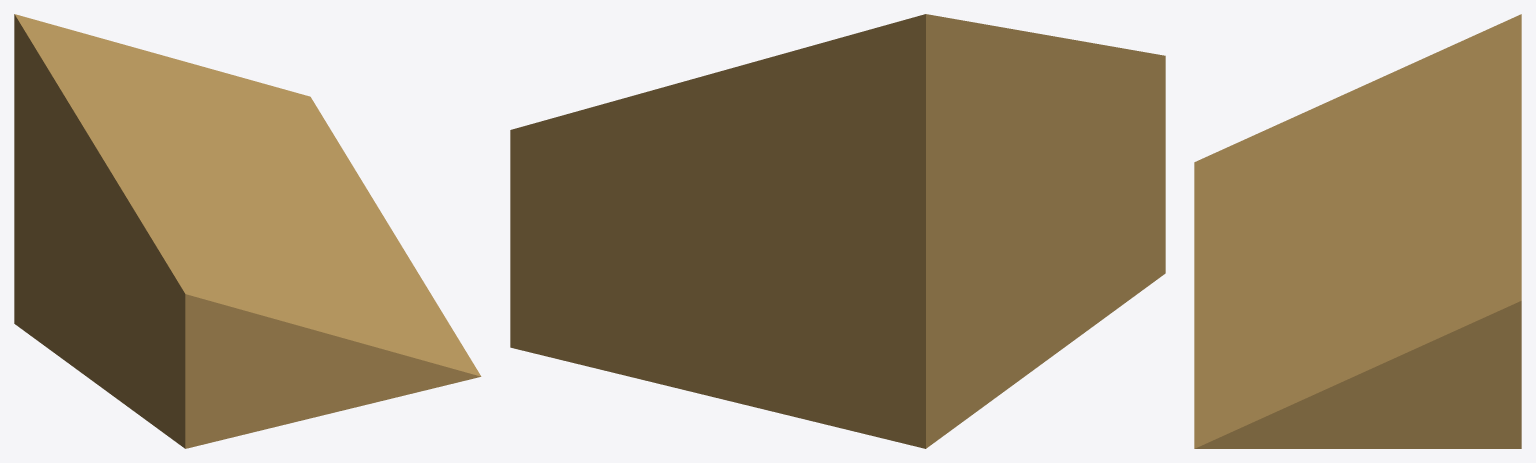
The model's file is TimedPulse_OuterCorner.glb.
3 views of the same model, side by side, from view 1: azimuth 30°, elevation 25°; view 2: azimuth 150°, elevation 25°; view 3: azimuth 270°, elevation 25° (orthographic). The views are drawn at different scales.
Parts seen in each view (by area): view 1: TimedPulse_OuterCorner_body; view 2: TimedPulse_OuterCorner_body; view 3: TimedPulse_OuterCorner_body.
Boxes of the visible parts, x1,y1,x2,y2 form: TimedPulse_OuterCorner_body: (14,14,481,448); TimedPulse_OuterCorner_body: (510,14,1165,448); TimedPulse_OuterCorner_body: (1194,14,1521,448).
Bounding box in the file's own units: 1 × 1 × 1.
